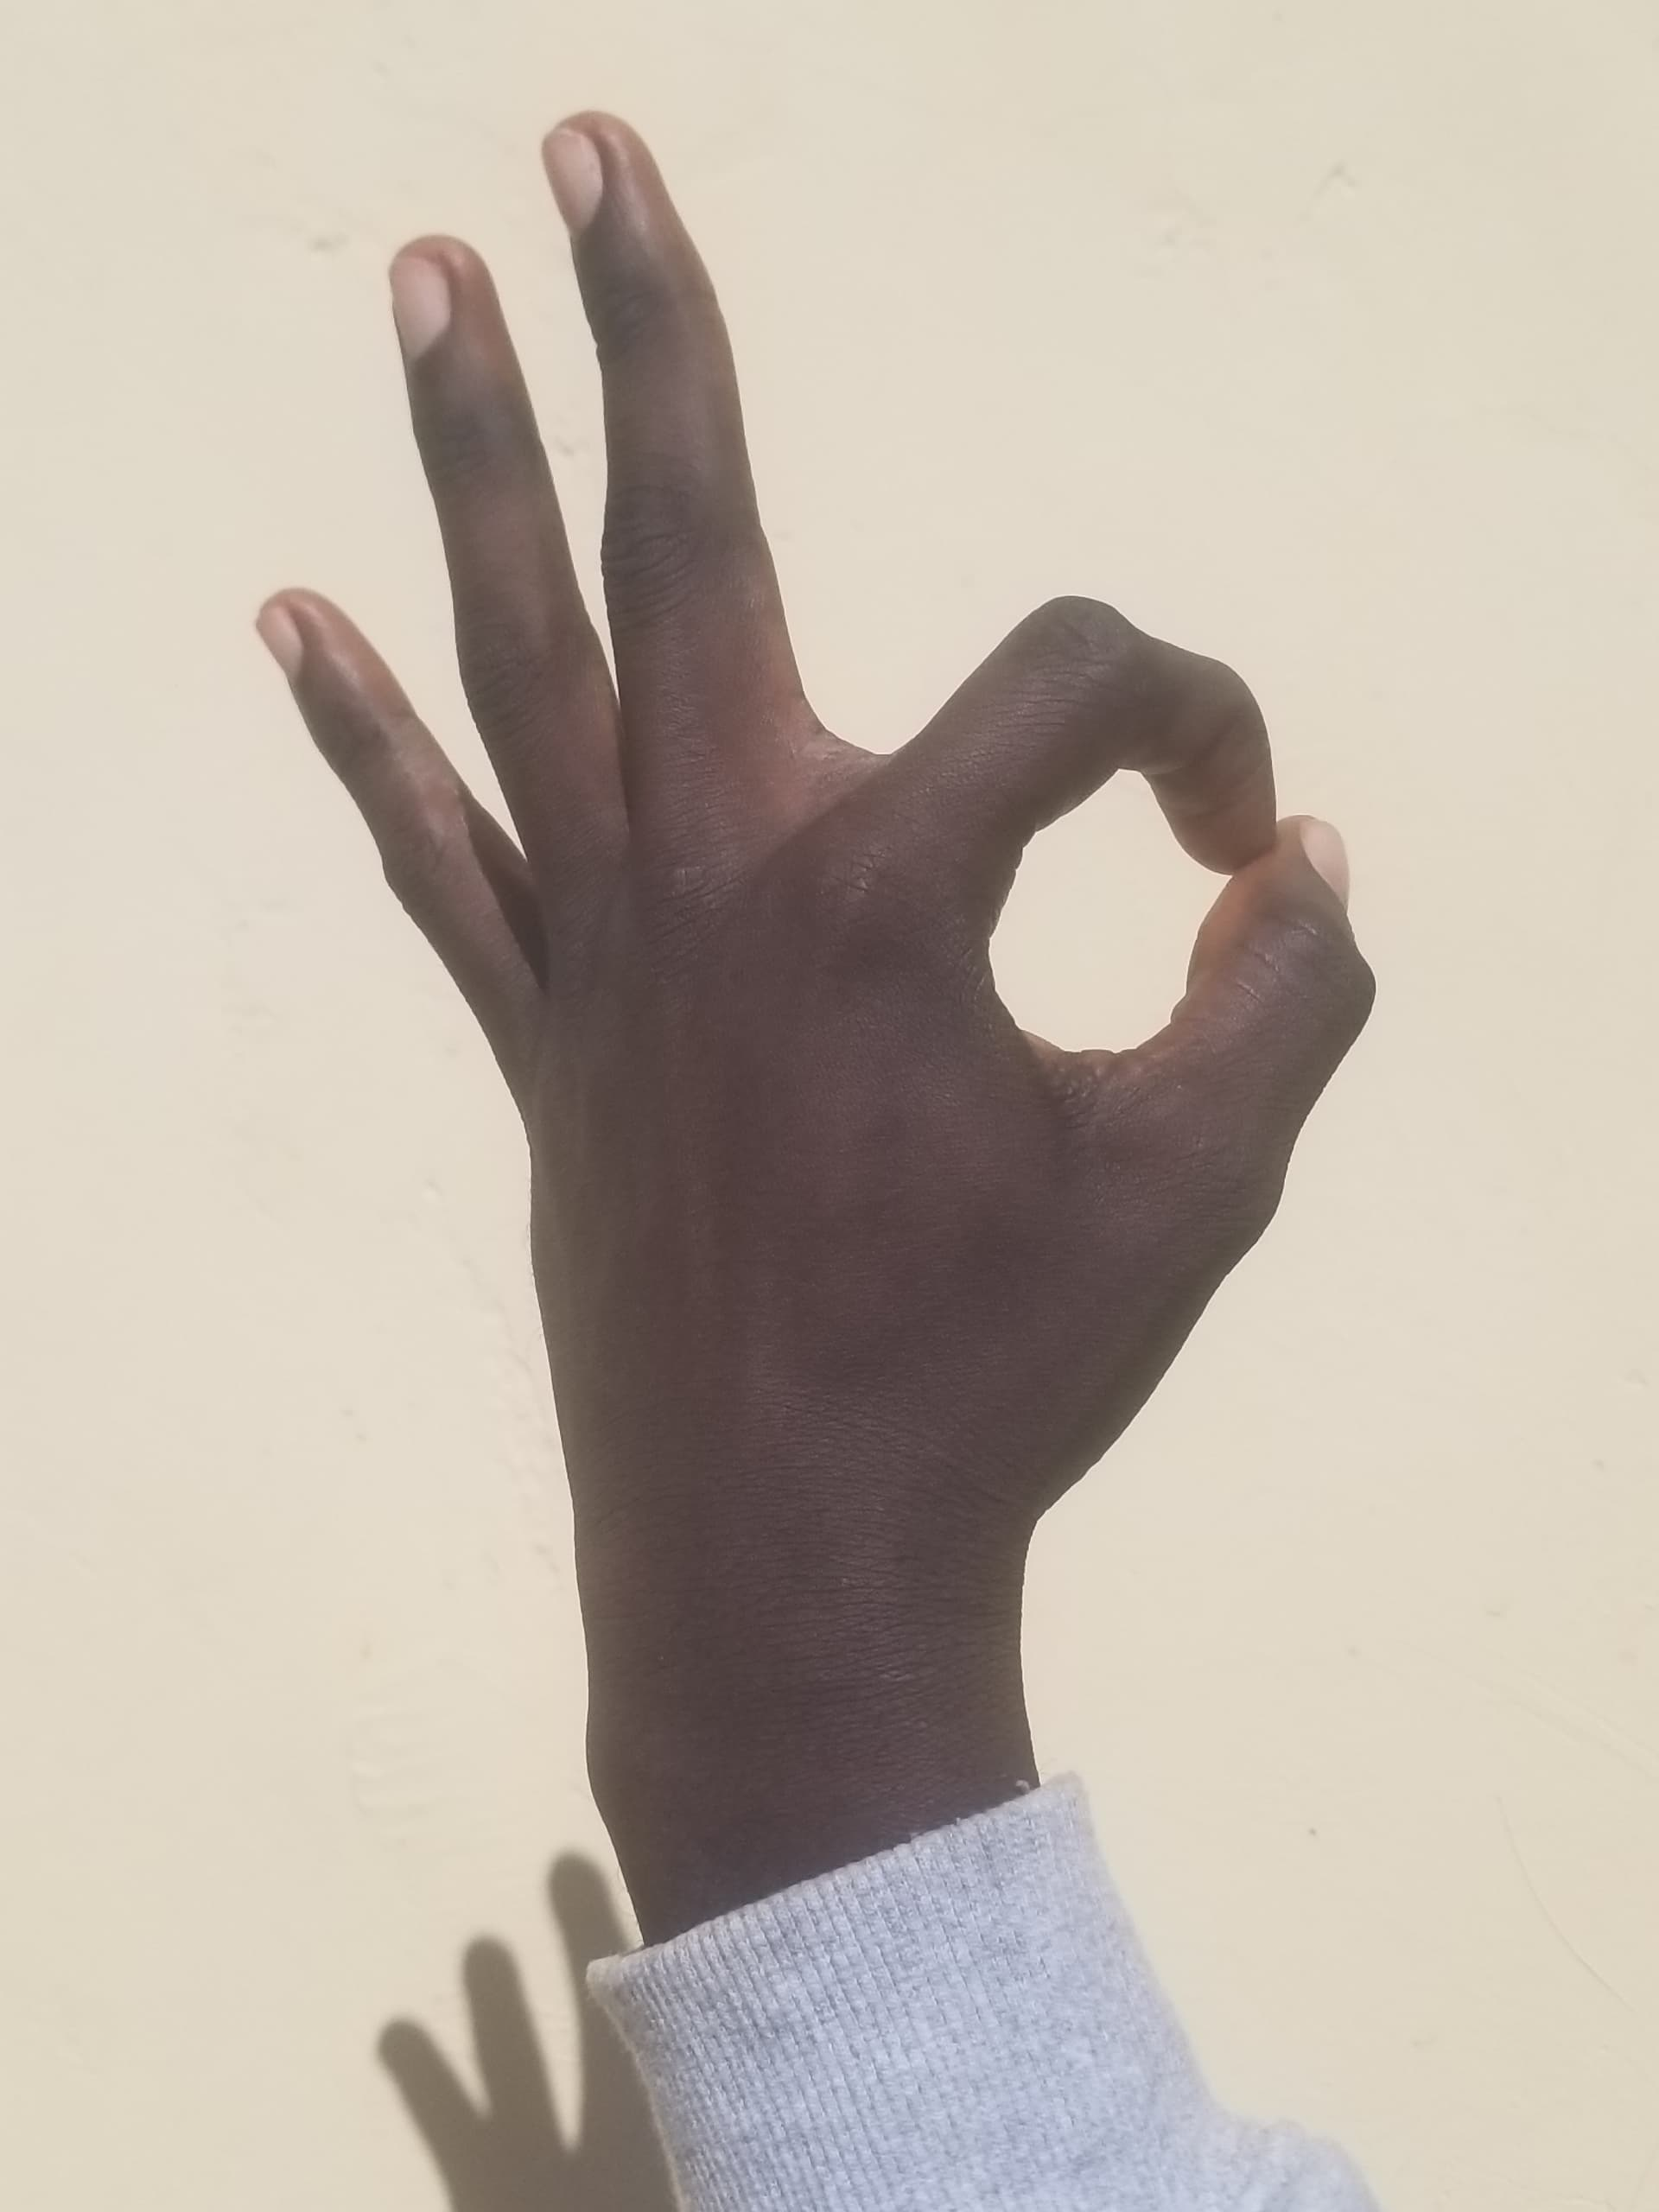okay: (162, 89, 1420, 1716)
